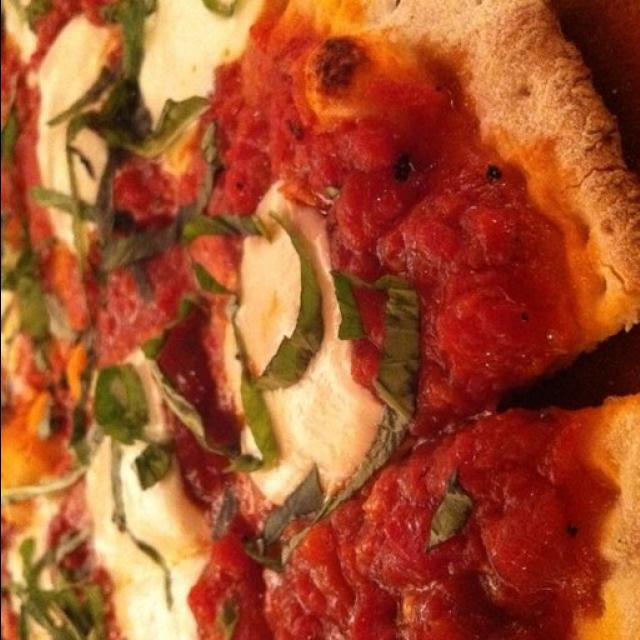basil: (434, 0, 584, 293), (218, 281, 326, 530), (320, 214, 381, 403), (470, 361, 551, 490), (362, 308, 420, 482), (538, 541, 630, 640)
pizza: (0, 0, 640, 640)
